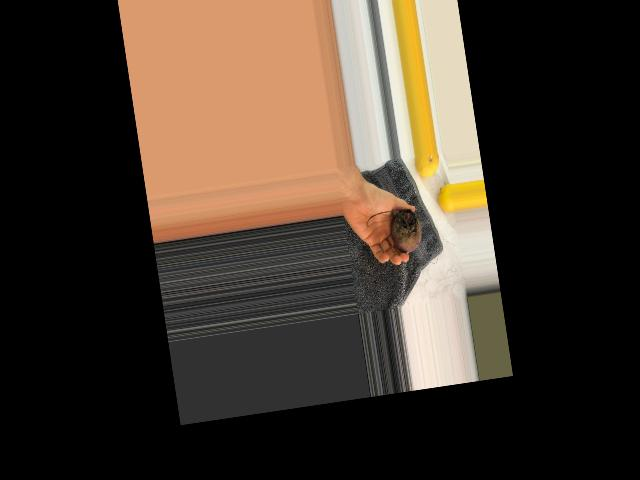beet: (365, 208, 424, 258)
